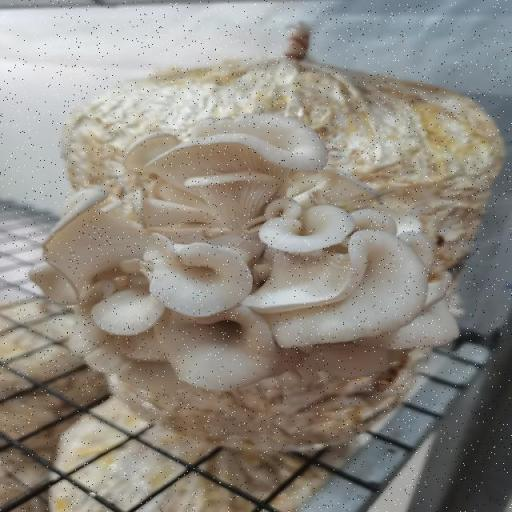White Oyster Mushroom: (41, 113, 475, 394)
